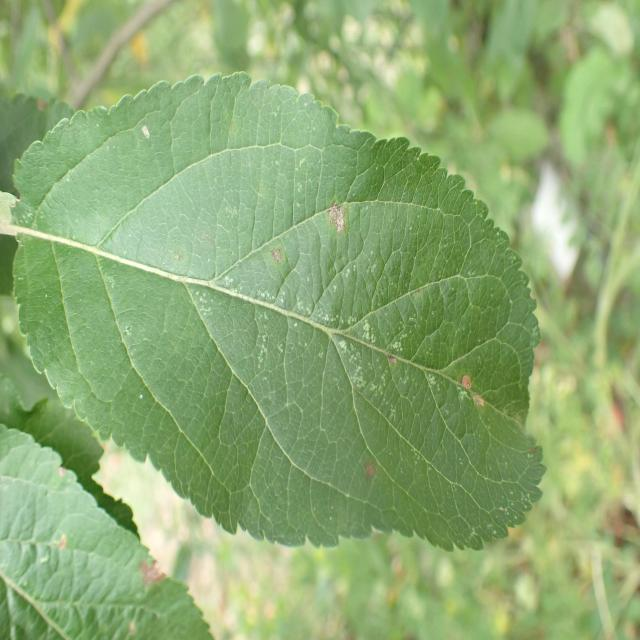frog-eye-leaf-spot: (11, 69, 547, 552)
